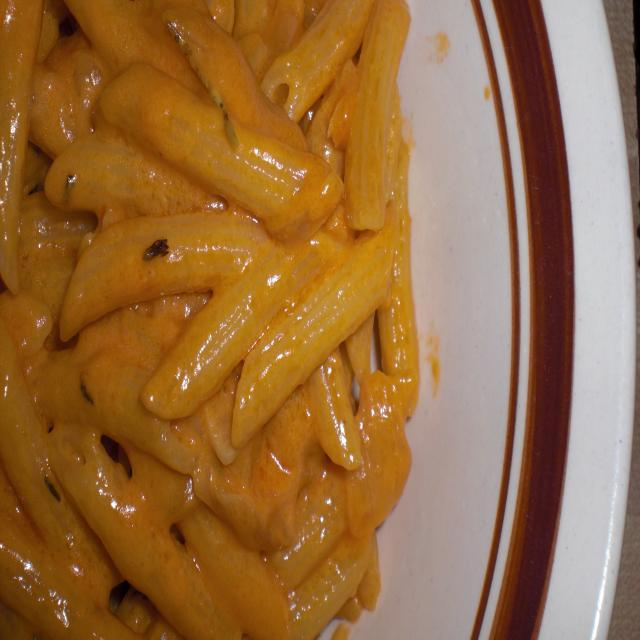Oil pasta: (6, 12, 450, 640)
